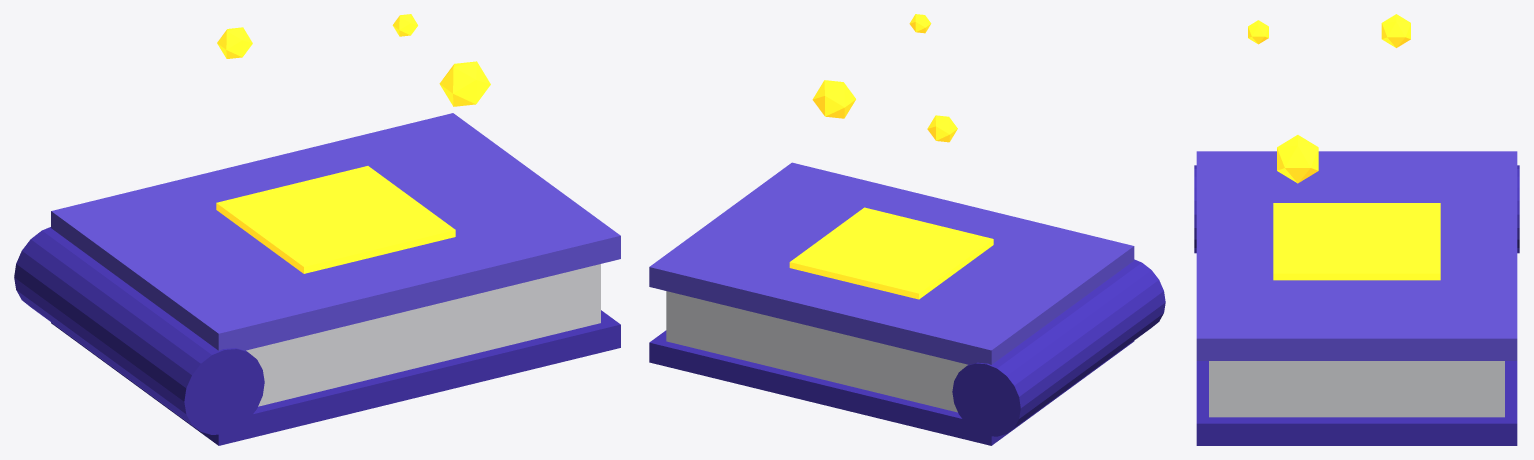
Rendered from arcane-book.glb.
The picture shows the model from 3 angles, left to right: view 1: azimuth 30°, elevation 25°; view 2: azimuth 150°, elevation 25°; view 3: azimuth 270°, elevation 25°; orthographic projection. The views are drawn at different scales.
Size of the model in its own units: 1.2 by 0.926 by 0.8082.
